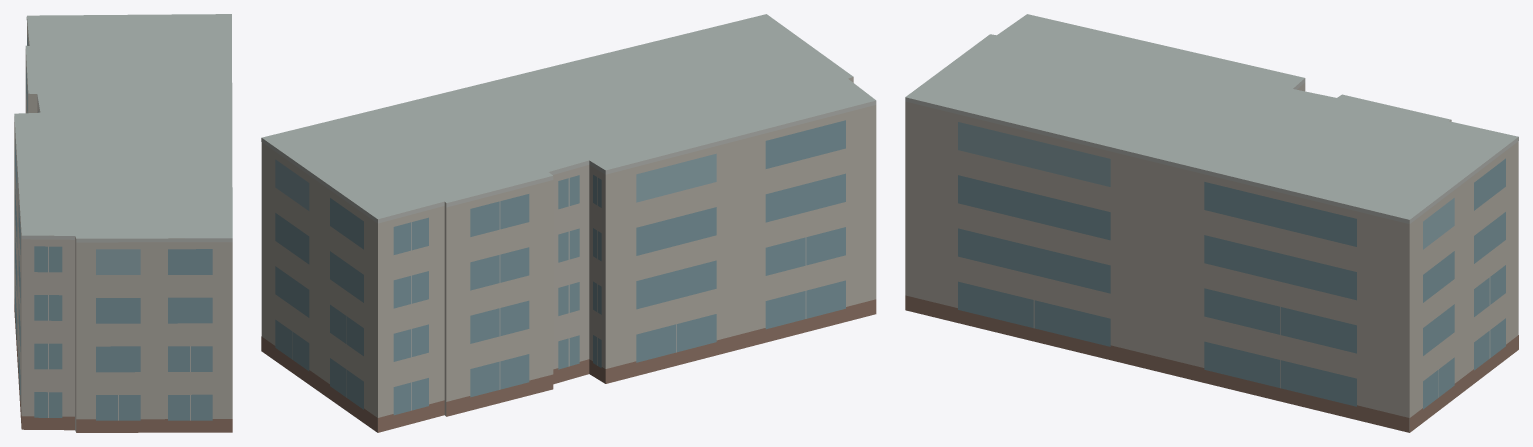
The model's file is survey-upis-32601796.glb.
The picture shows the model from 3 angles, left to right: view 1: azimuth 30°, elevation 25°; view 2: azimuth 150°, elevation 25°; view 3: azimuth 270°, elevation 25°; orthographic projection. The views are drawn at different scales.
Visible parts, largest first — view 1: survey-upis-32601796.tmp; view 2: survey-upis-32601796.tmp; view 3: survey-upis-32601796.tmp.
Boxes of the visible parts, <box> form: survey-upis-32601796.tmp: <box>14,14,232,432</box>; survey-upis-32601796.tmp: <box>261,14,876,432</box>; survey-upis-32601796.tmp: <box>905,14,1518,432</box>.
Bounding box in the file's own units: 25.3 × 12.2 × 31.85.
